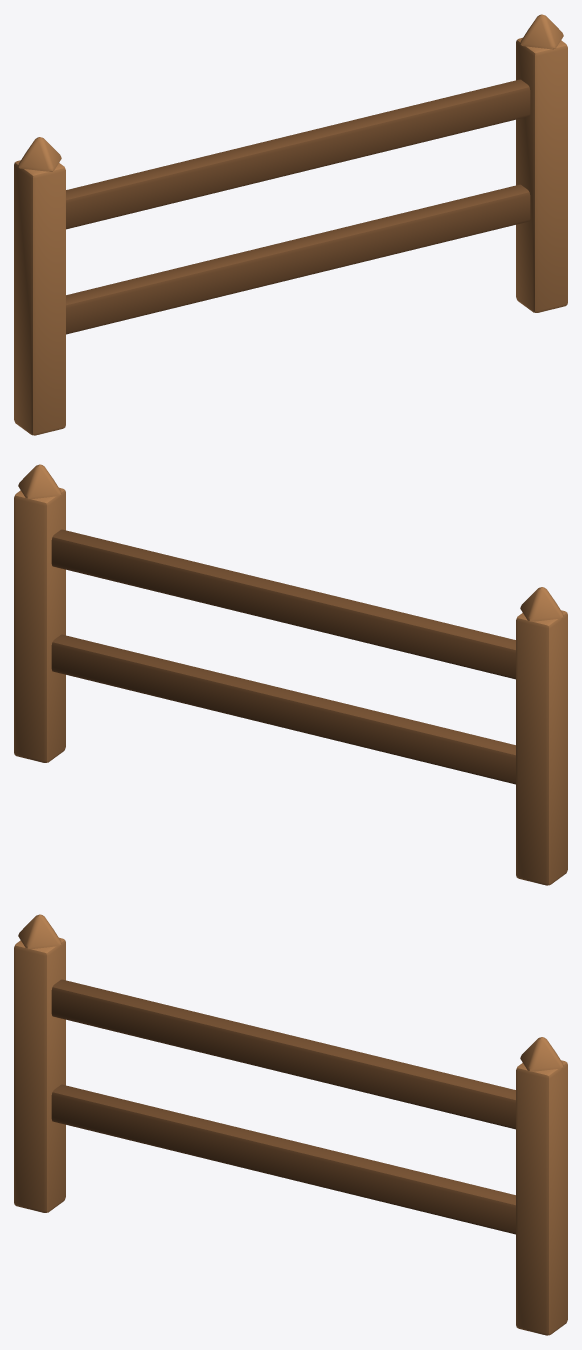
File: fence.glb
3 views of the same model, one above another, from view 1: azimuth 30°, elevation 25°; view 2: azimuth 150°, elevation 25°; view 3: azimuth 330°, elevation 25° (orthographic).
Visible parts, largest first — view 1: FenceMesh; view 2: FenceMesh; view 3: FenceMesh.
Part boxes in pixels (box(x1,y1,x2,y2)): FenceMesh: box(14, 14, 567, 435); FenceMesh: box(14, 464, 567, 885); FenceMesh: box(14, 914, 567, 1335).
Size of the model in its own units: 2.17 by 1.1 by 0.1701.
